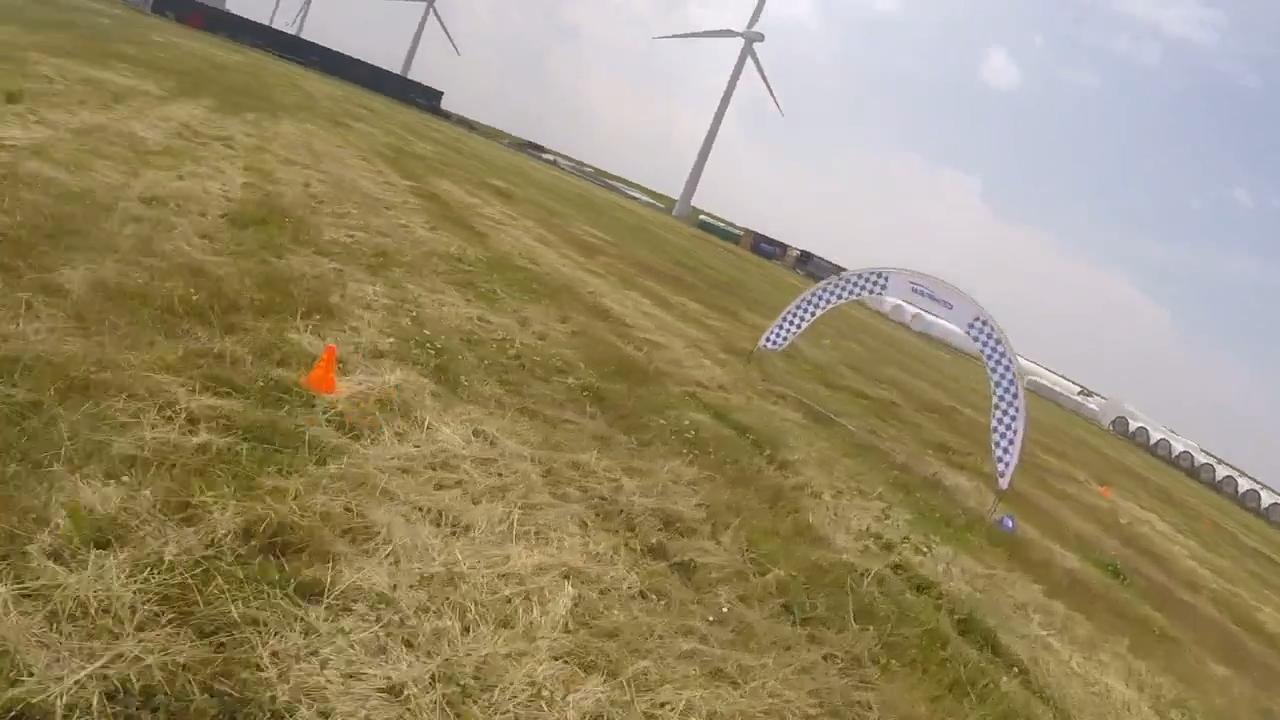gate: (758, 268, 1027, 491)
